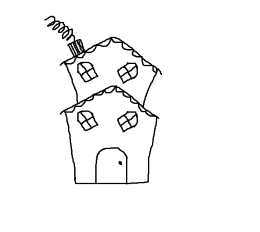closed_window: (69, 107, 102, 131), (117, 61, 140, 84), (115, 109, 138, 132), (74, 61, 98, 83)
door: (89, 142, 136, 187)
single_line_roof: (46, 29, 192, 71), (53, 84, 180, 117)
smoking_chimney: (35, 7, 89, 55)
wall: (63, 112, 156, 198)
